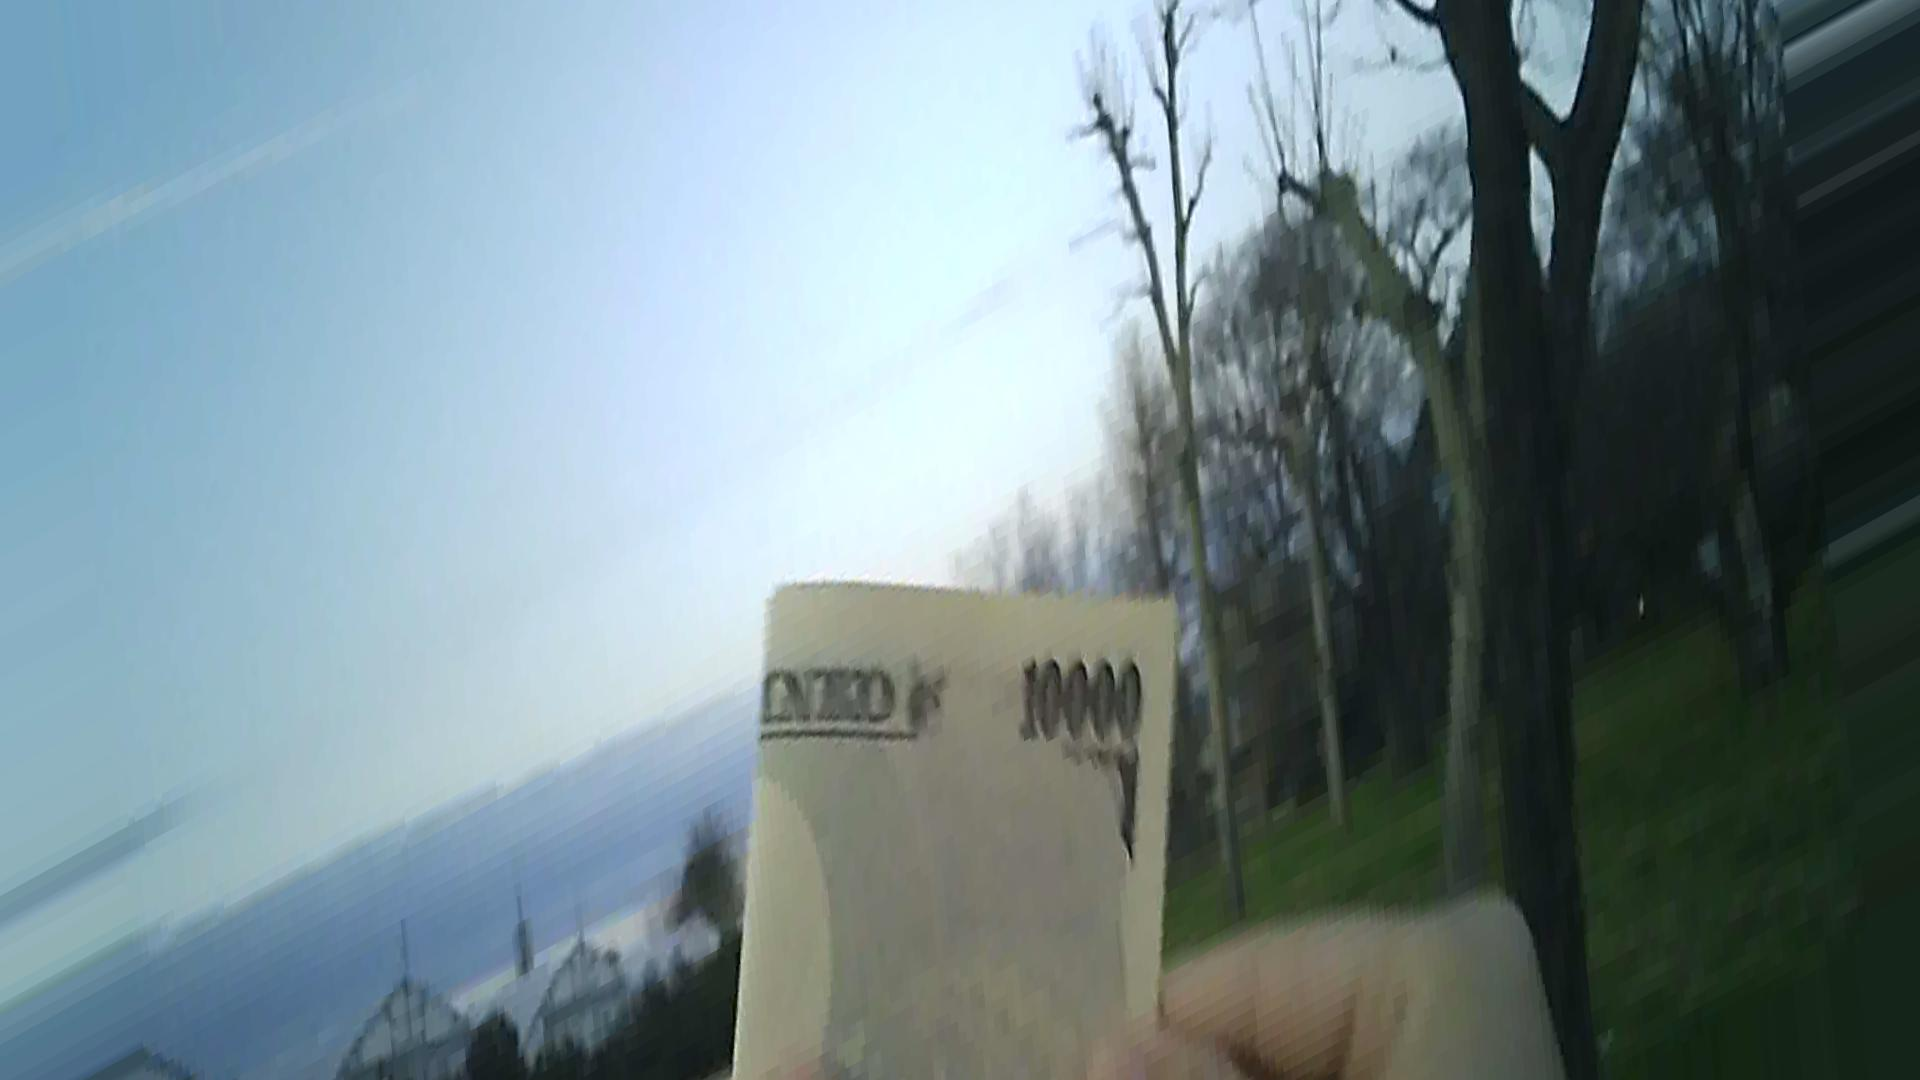10,000 Yen: (741, 564, 1205, 1075)
